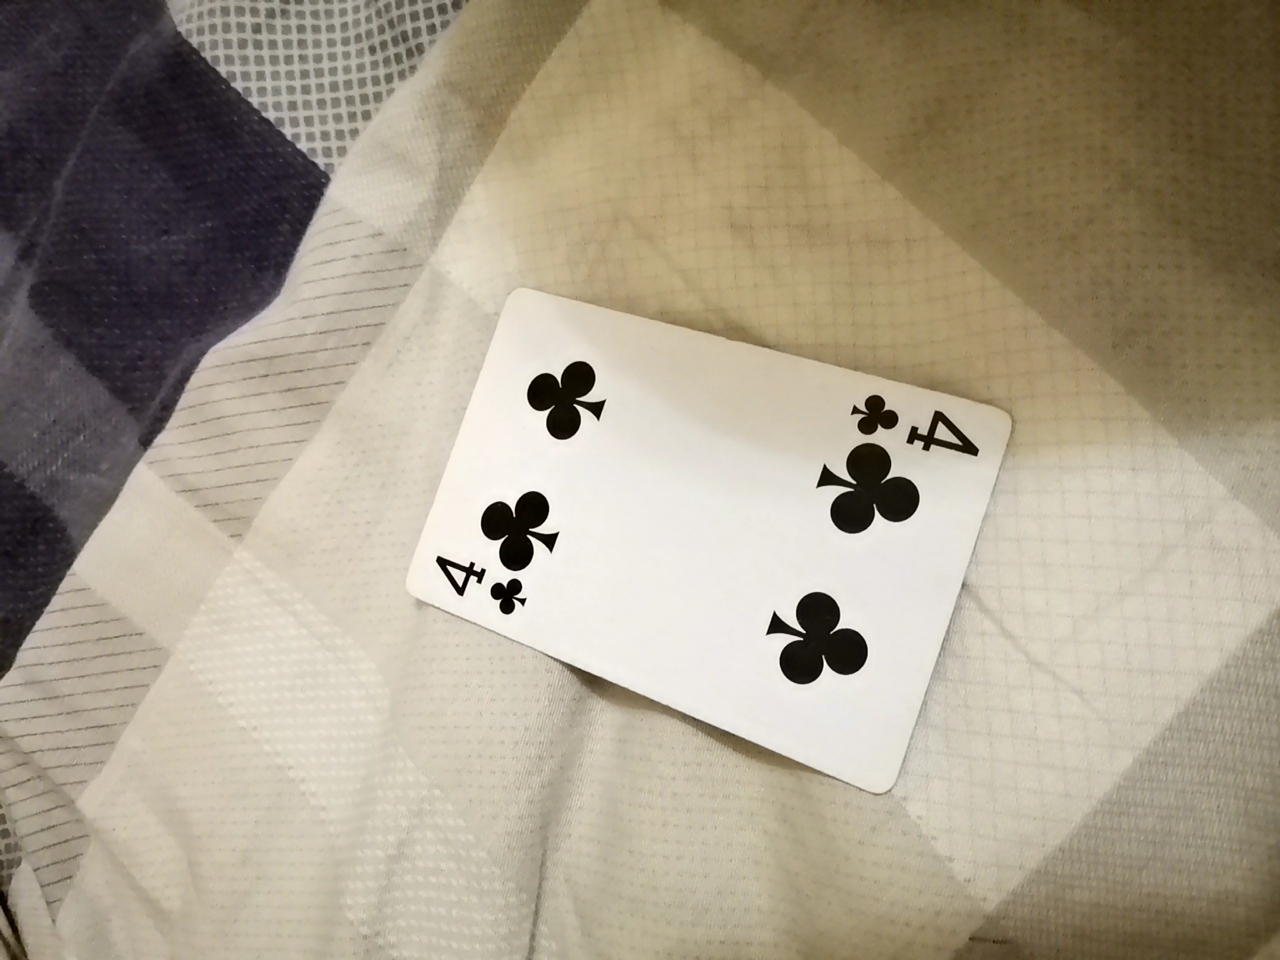mh 4: (438, 287, 1017, 804)
